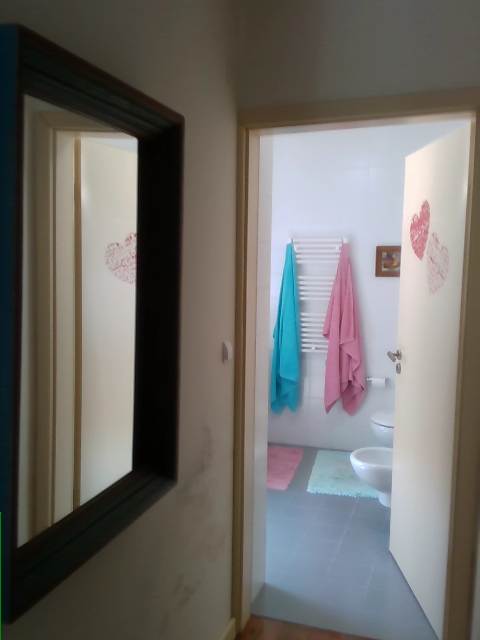open: (229, 76, 479, 639)
